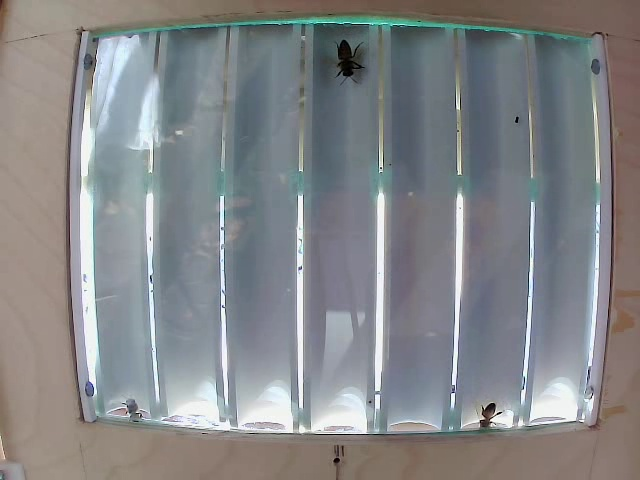bee: (331, 51, 365, 98)
